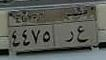4: (10, 29, 20, 49), (21, 29, 30, 47)
5: (42, 30, 51, 44)
7: (30, 28, 41, 46)
ain: (76, 25, 89, 43)
raa: (63, 30, 74, 45)
